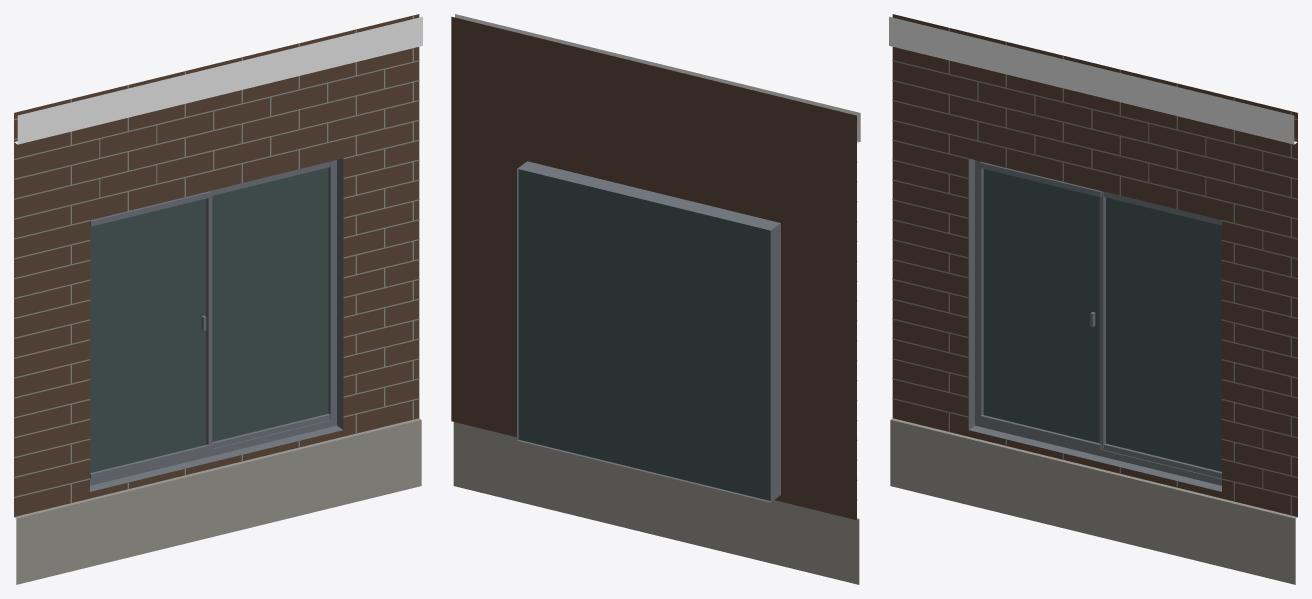
The model's file is base-w3_close.fbx.
The picture shows the model from 3 angles, left to right: view 1: azimuth 30°, elevation 25°; view 2: azimuth 150°, elevation 25°; view 3: azimuth 330°, elevation 25°; orthographic projection.
Parts seen in each view (by area): view 1: a2000s3/800/base-w3_close; view 2: a2000s3/800/base-w3_close; view 3: a2000s3/800/base-w3_close.
Boxes of the visible parts, x1,y1,x2,y2 form: a2000s3/800/base-w3_close: (14, 14, 422, 584); a2000s3/800/base-w3_close: (451, 14, 860, 584); a2000s3/800/base-w3_close: (889, 14, 1297, 584).
Size of the model in its own units: 3.2 by 3.55 by 0.19.
